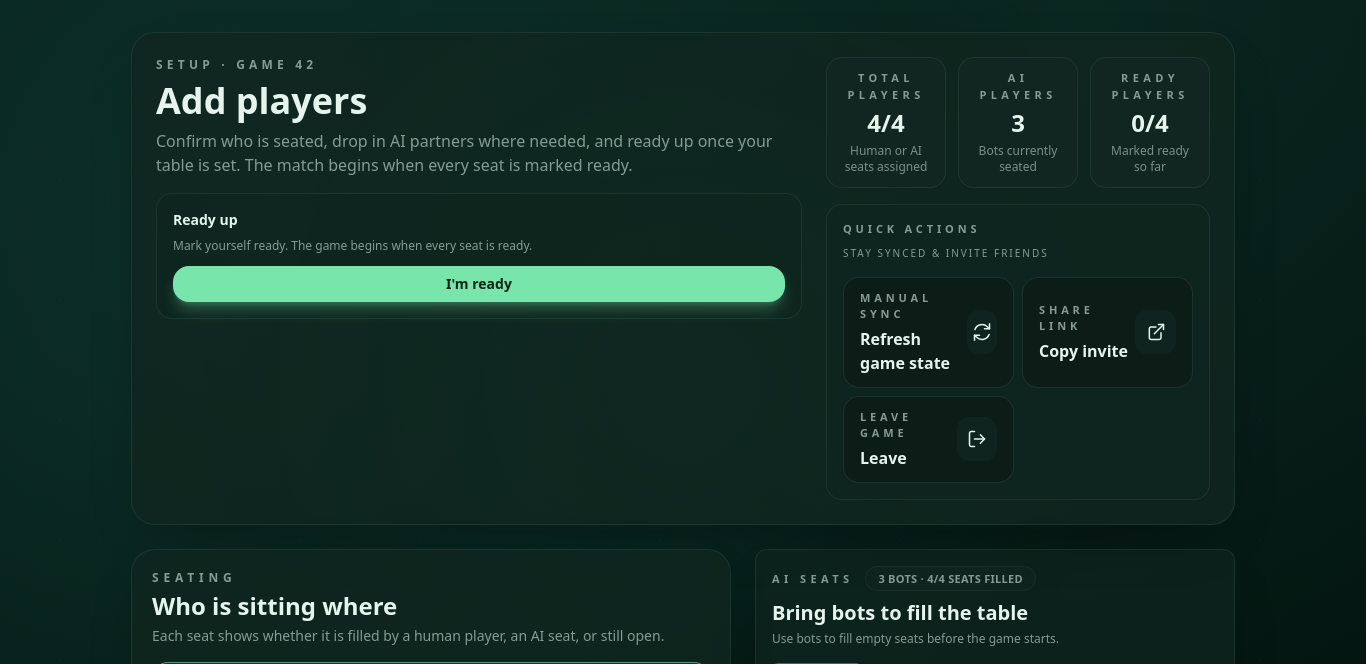
Scenario: GameRoomClient › Manual refresh › handles refresh errors
Click the button "Manual sync Refresh game state" at {"x": 928, "y": 332}, box [843,276,1014,388]
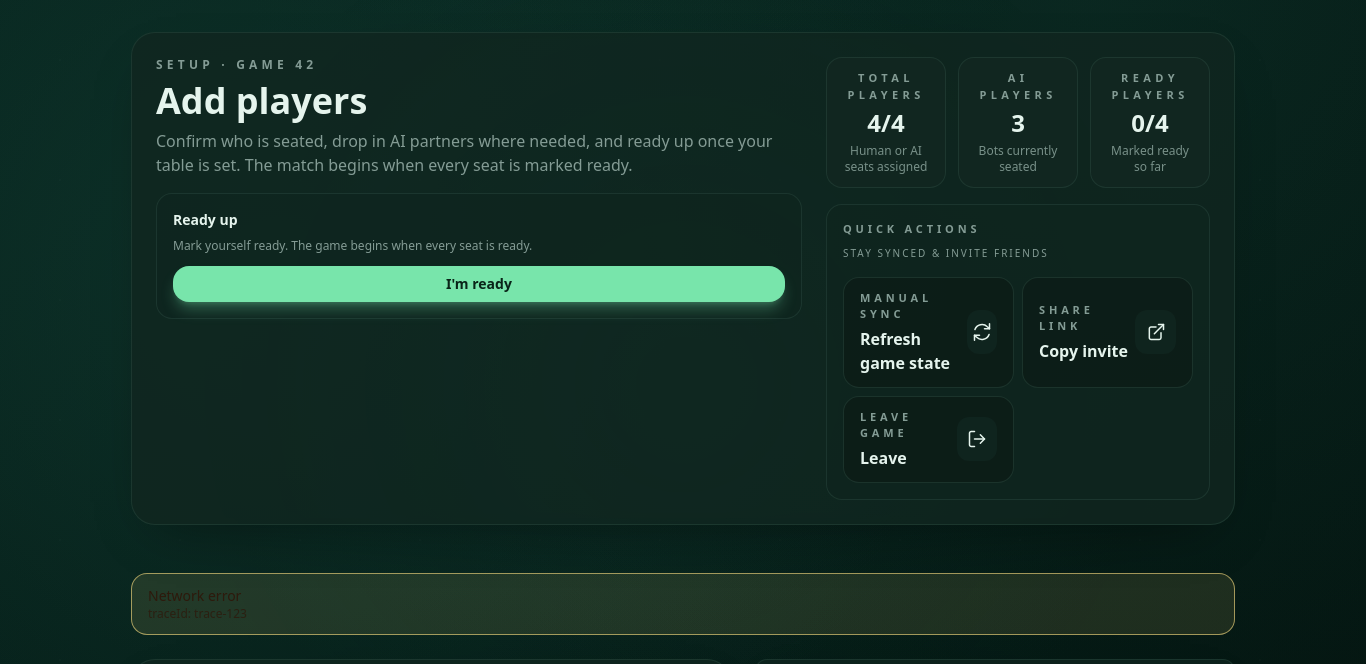
Check: the text "Network error" is shown, box [148,586,241,604]
